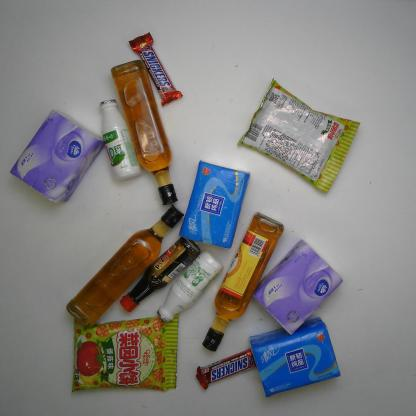Chocolate: (130, 30, 186, 111), (194, 343, 258, 391)
Milk: (151, 248, 226, 325), (97, 94, 145, 185)
Puffed Food: (235, 74, 366, 199), (64, 314, 183, 397)
Seasoner: (62, 201, 186, 331), (196, 210, 288, 355), (107, 56, 178, 207), (118, 231, 203, 316)
Tissue: (5, 107, 106, 208), (252, 236, 346, 339), (247, 316, 344, 400), (176, 158, 251, 254)
